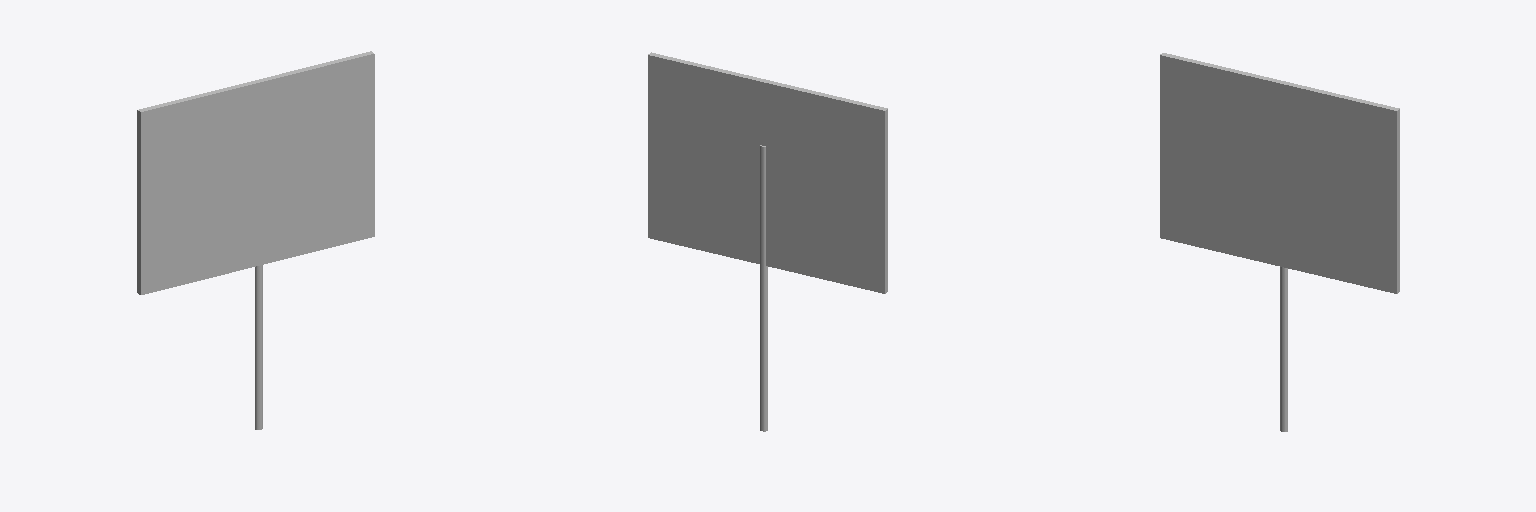
The model's file is board_29.obj.
The picture shows the model from 3 angles: view 1: azimuth 30°, elevation 25°; view 2: azimuth 150°, elevation 25°; view 3: azimuth 330°, elevation 25°; orthographic projection.
Parts seen in each view (by area): view 1: Cube.011_Cube.012, Cylinder.011; view 2: Cube.011_Cube.012, Cylinder.011; view 3: Cube.011_Cube.012, Cylinder.011.
Part boxes in pixels (bbox=[...]): Cube.011_Cube.012: bbox=[137, 51, 374, 294]; Cylinder.011: bbox=[255, 265, 262, 429]; Cube.011_Cube.012: bbox=[648, 52, 887, 293]; Cylinder.011: bbox=[760, 145, 767, 431]; Cube.011_Cube.012: bbox=[1160, 53, 1399, 293]; Cylinder.011: bbox=[1280, 267, 1287, 431].
Bounding box in the file's own units: 0.1939 × 0.274 × 0.0075.